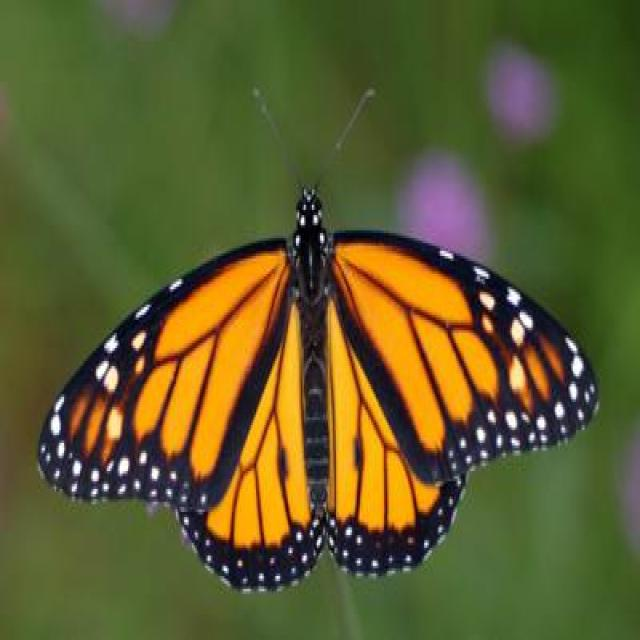antennae: (249, 82, 390, 206)
body: (284, 192, 341, 521)
insect: (39, 80, 600, 594)
wings: (39, 234, 319, 597), (314, 227, 598, 577)
